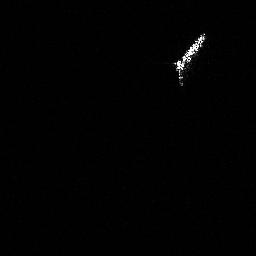ship: (168, 28, 209, 89)
